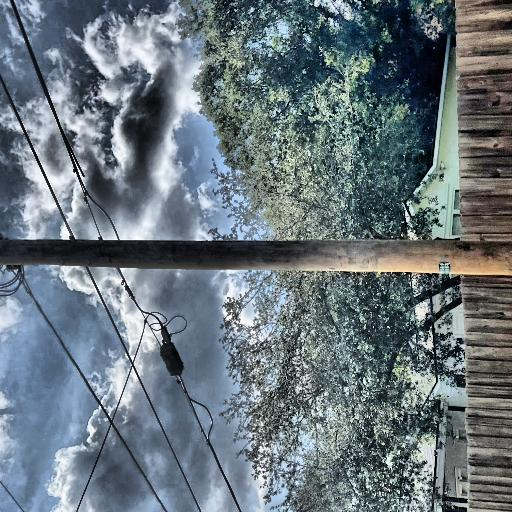pole: (93, 0, 153, 512)
street light: (16, 0, 131, 76)
